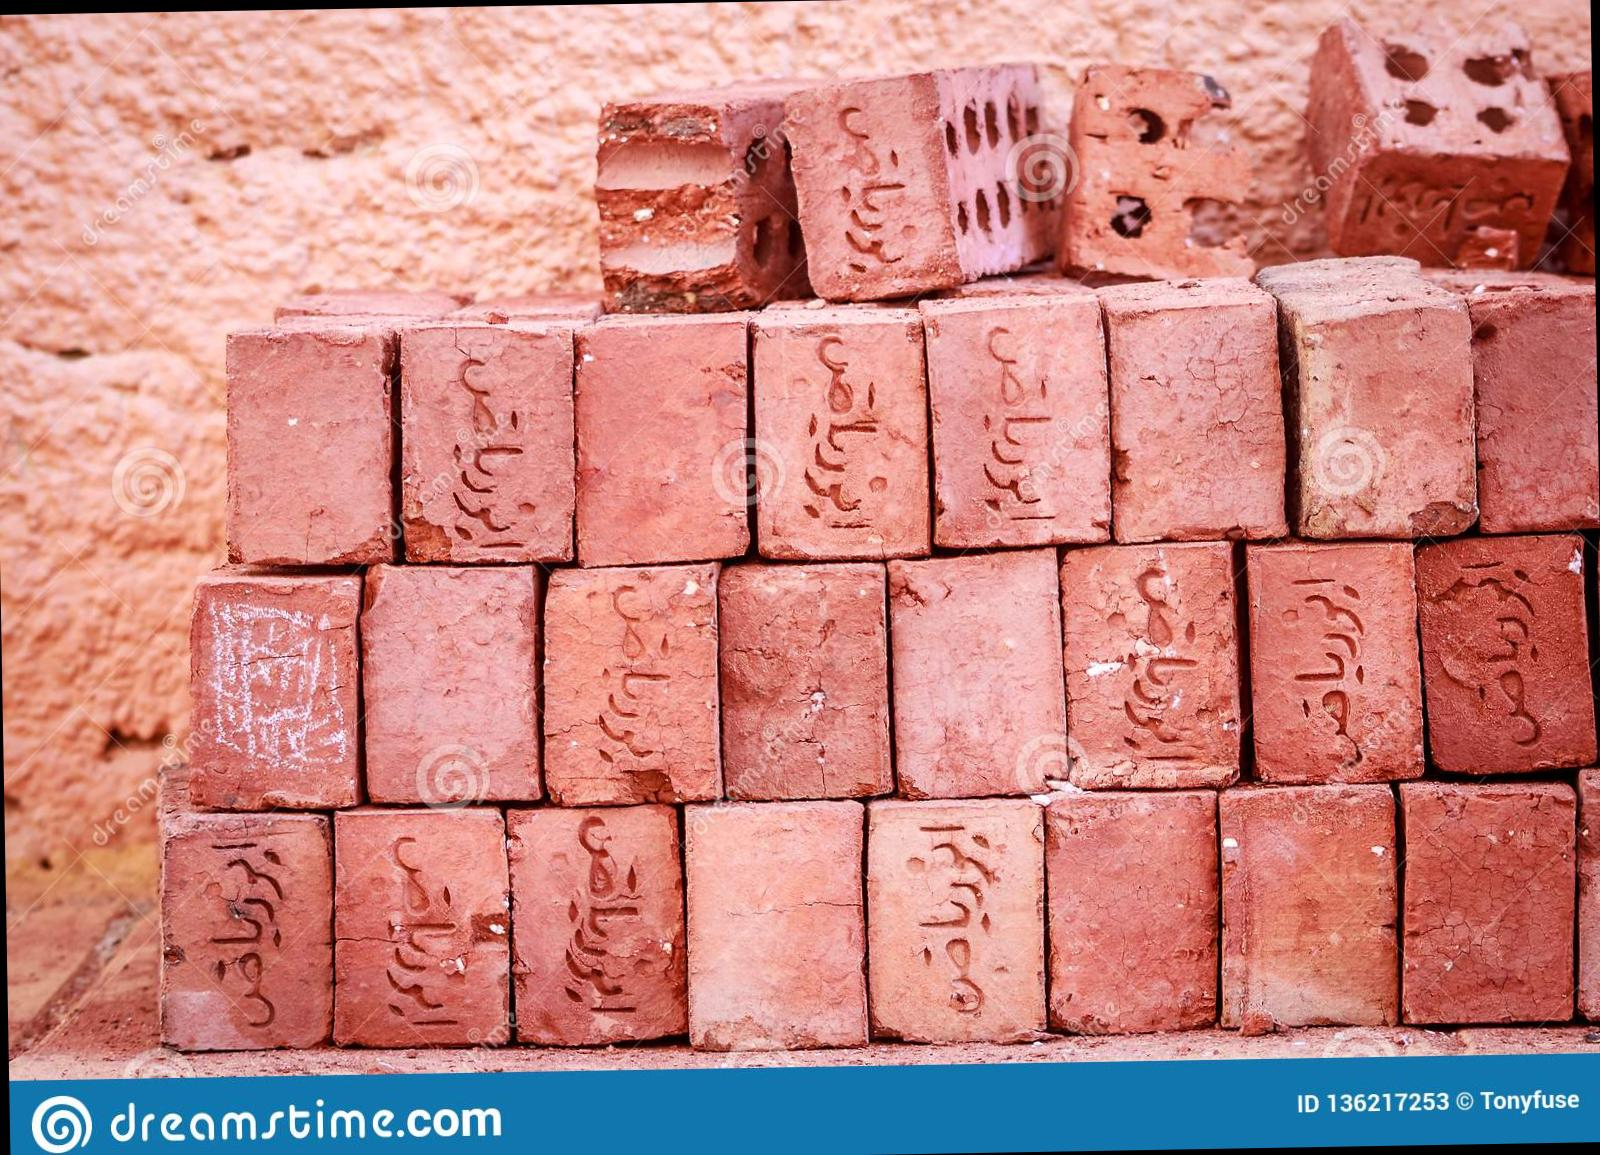brick: (924, 298, 1112, 548), (683, 799, 867, 1049), (887, 546, 1066, 797), (867, 797, 1047, 1044), (1220, 782, 1398, 1030), (1296, 298, 1477, 539), (1062, 543, 1240, 789), (542, 563, 720, 805), (507, 805, 686, 1047), (328, 810, 511, 1046), (752, 318, 929, 560), (359, 560, 538, 800), (574, 322, 749, 566), (1109, 299, 1286, 541), (1417, 534, 1596, 772), (398, 325, 576, 561), (157, 813, 334, 1051), (1045, 789, 1219, 1031), (1398, 791, 1578, 1022), (1248, 544, 1421, 785), (718, 561, 888, 797), (189, 575, 361, 807), (224, 329, 393, 564), (784, 76, 943, 301), (1472, 291, 1600, 533)
